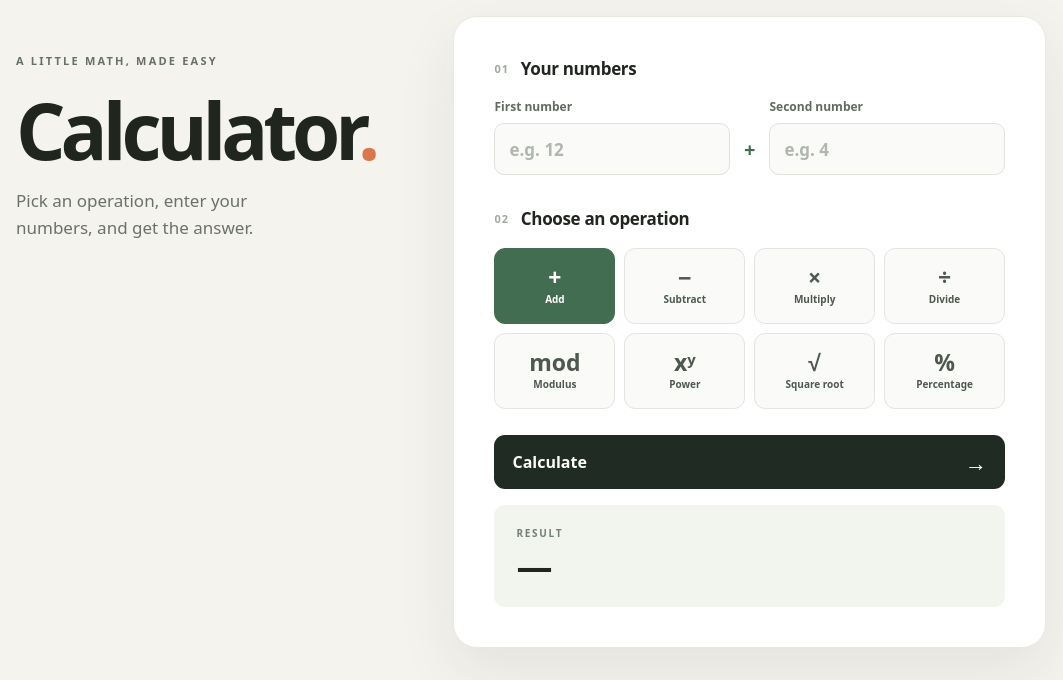
calculator form › uses one input for square root and omits the second argument
The width and height of the screenshot is (1063, 680).
Click the button "√ Square root": (815, 371) [754,333,875,409]
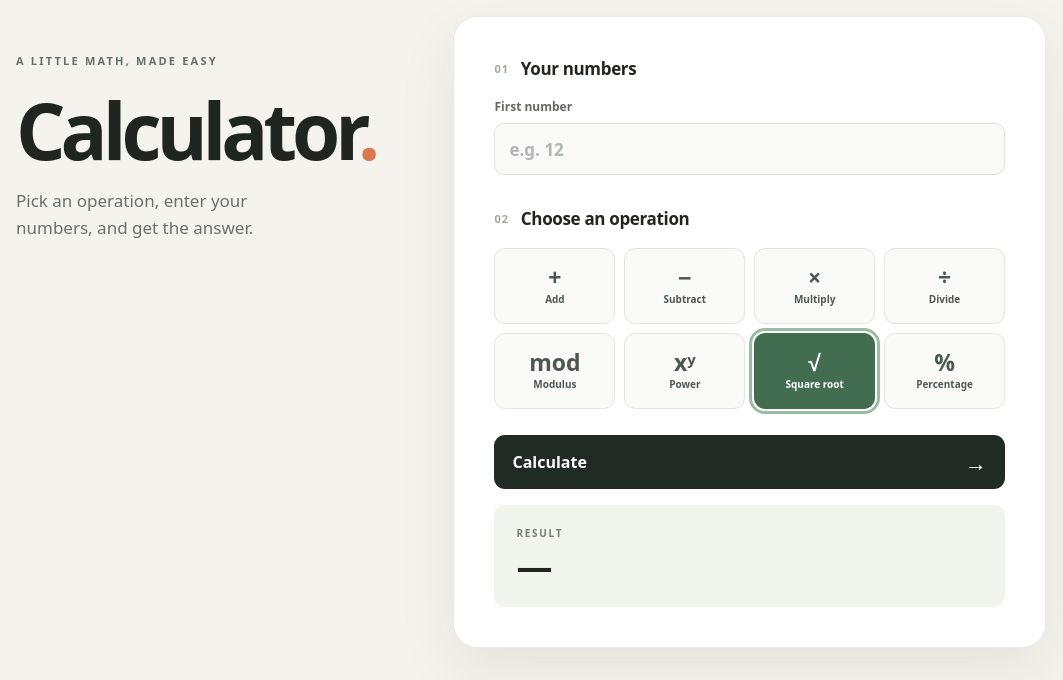
Check: the text "Second number" is gone
In the number field labelled "First number": (750, 149) [494,123,1005,175], type "9"
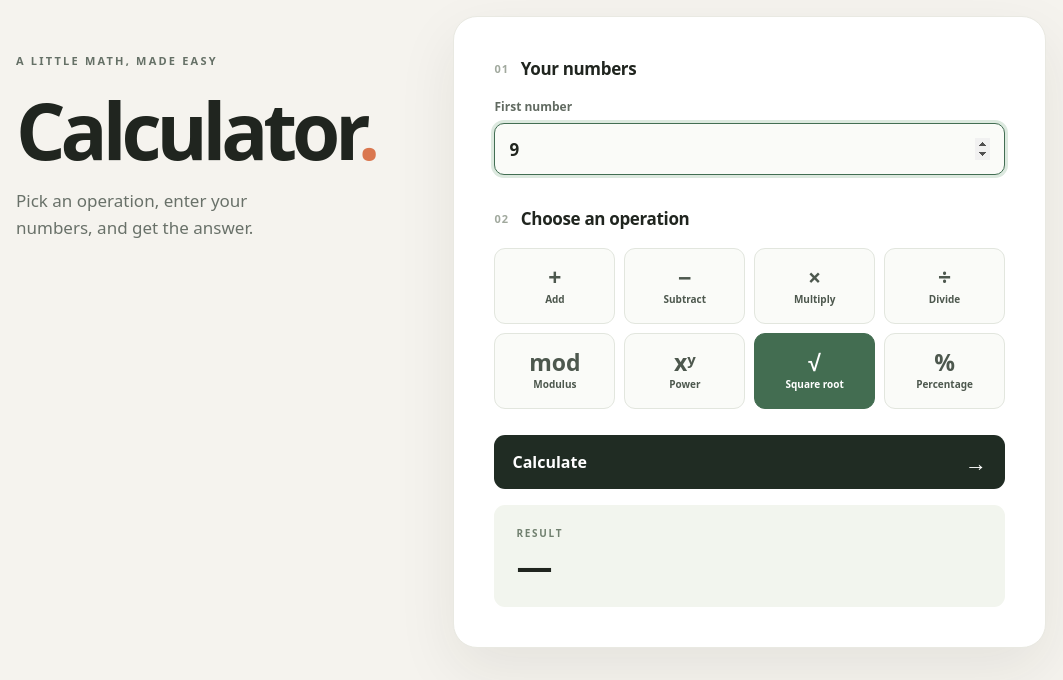
Click the button "Calculate →": (550, 462) [494,435,1005,489]
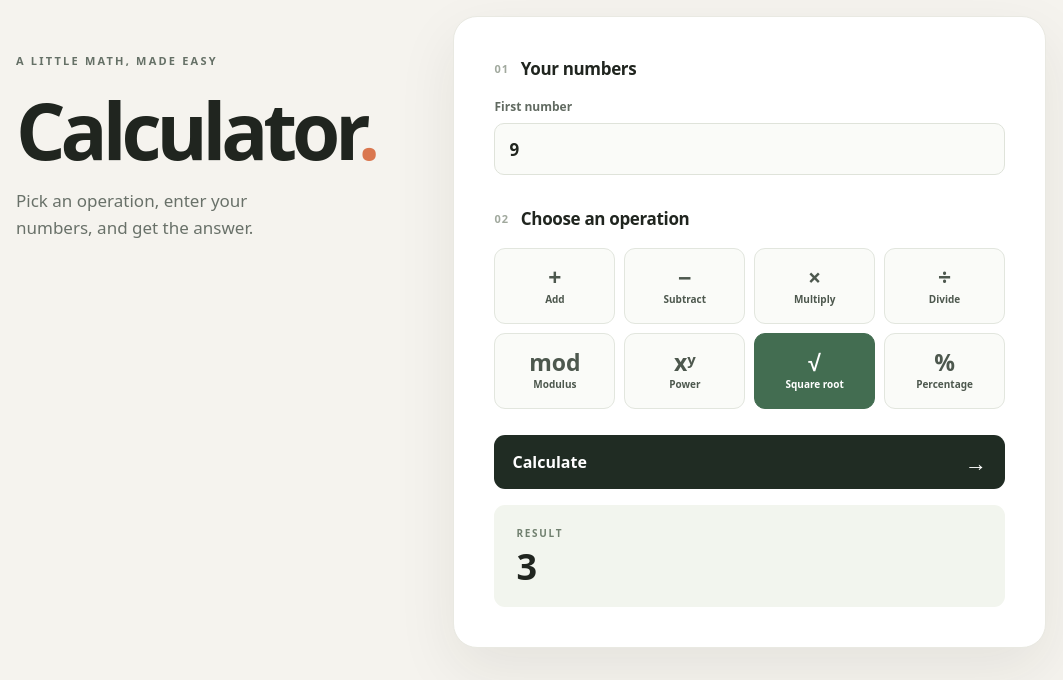
Check: the text "3" is shown, box [516,542,537,591]
